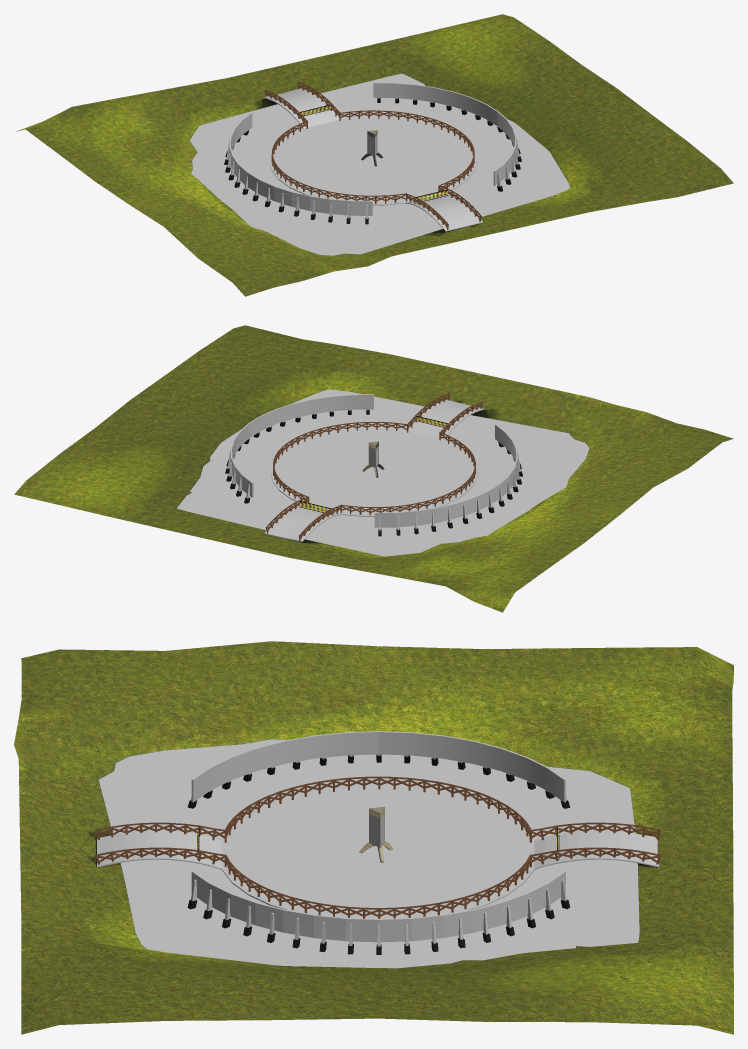
Rendered from praca.gltf.
3 renders of one model, top to bottom at view 1: azimuth 30°, elevation 25°; view 2: azimuth 150°, elevation 25°; view 3: azimuth 270°, elevation 25°, orthographic. The views are drawn at different scales.
Visible parts, largest first — view 1: Plane, Plane.001, Circle, Circle.012, Cube, Circle.002, Cube.001, Cube.004; view 2: Plane, Plane.001, Circle, Circle.012, Cube, Circle.014, Cube.001, Cube.004; view 3: Plane, Plane.001, Circle, Circle.012, Cube, Circle.001, Circle.013, Cube.004, Cube.001.
Part boxes in pixels (x1,y1,x2,y2): Plane: [16, 14, 733, 296]; Plane.001: [190, 73, 570, 255]; Circle: [264, 88, 483, 231]; Circle.012: [229, 82, 516, 215]; Cube: [271, 110, 474, 203]; Circle.002: [373, 83, 497, 125]; Cube.001: [224, 98, 521, 224]; Cube.004: [264, 82, 481, 229]; Plane: [14, 325, 733, 612]; Plane.001: [176, 389, 589, 556]; Circle: [264, 399, 484, 541]; Circle.012: [230, 394, 517, 527]; Cube: [273, 422, 475, 515]; Circle.014: [250, 395, 373, 437]; Cube.001: [225, 409, 522, 536]; Cube.004: [265, 393, 483, 542]; Plane: [14, 641, 733, 1034]; Plane.001: [98, 739, 639, 968]; Circle: [97, 787, 659, 918]; Circle.012: [191, 731, 565, 942]; Cube: [224, 776, 531, 918]; Circle.001: [193, 732, 378, 802]; Circle.013: [379, 732, 564, 801]; Cube.004: [95, 822, 660, 864]; Cube.001: [187, 754, 570, 954].
Size of the model in its own units: 47.57 by 3.63 by 39.33.
